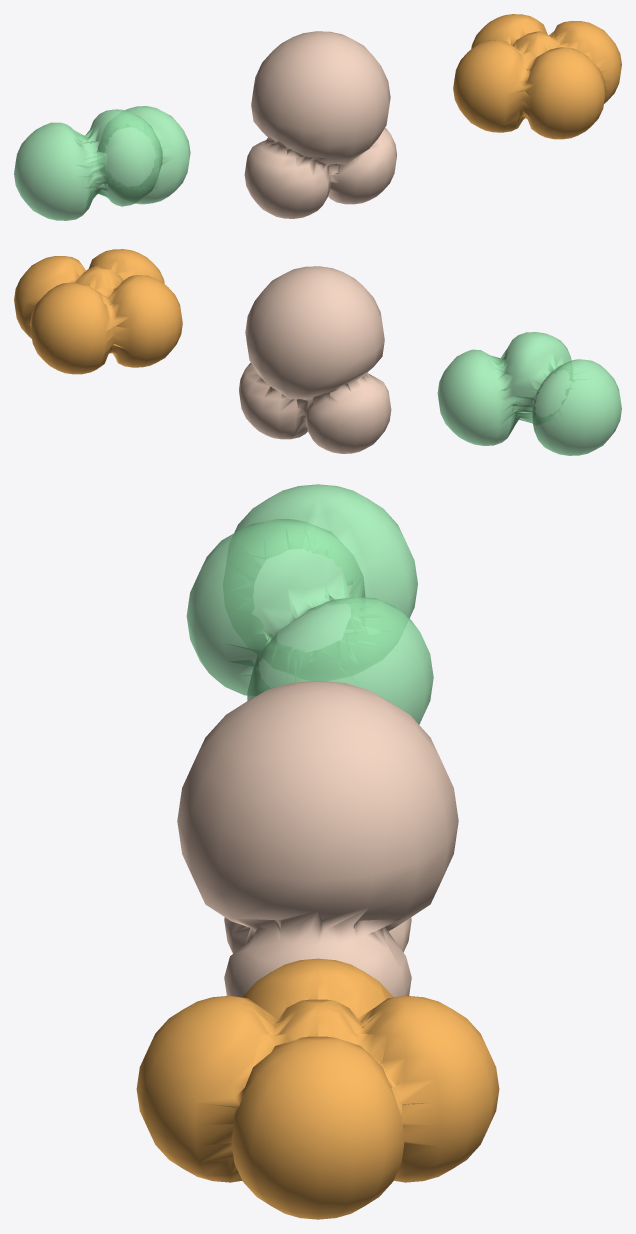
The model's file is metaball_blob.glb.
The picture shows the model from 3 angles, top to bottom: view 1: azimuth 30°, elevation 25°; view 2: azimuth 150°, elevation 25°; view 3: azimuth 270°, elevation 25°; orthographic projection. The views are drawn at different scales.
Visible parts, largest first — view 1: torso, pumpkin, slime; view 2: torso, pumpkin, slime; view 3: pumpkin, torso, slime.
Boxes of the visible parts, box(x1,y1,x2,y2) form: torso: box(244, 31, 396, 218); pumpkin: box(453, 14, 621, 139); slime: box(14, 106, 190, 220); torso: box(239, 266, 391, 453); pumpkin: box(14, 249, 182, 374); slime: box(437, 332, 621, 455); pumpkin: box(136, 958, 499, 1219); torso: box(177, 681, 458, 997); slime: box(186, 484, 433, 724).
Size of the model in its own units: 4.4 by 1.2 by 1.16.
